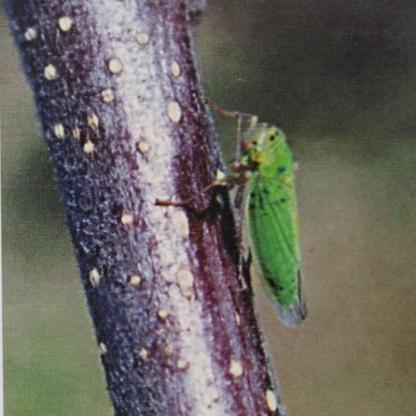Green-Leafhopper: (190, 100, 316, 332)
